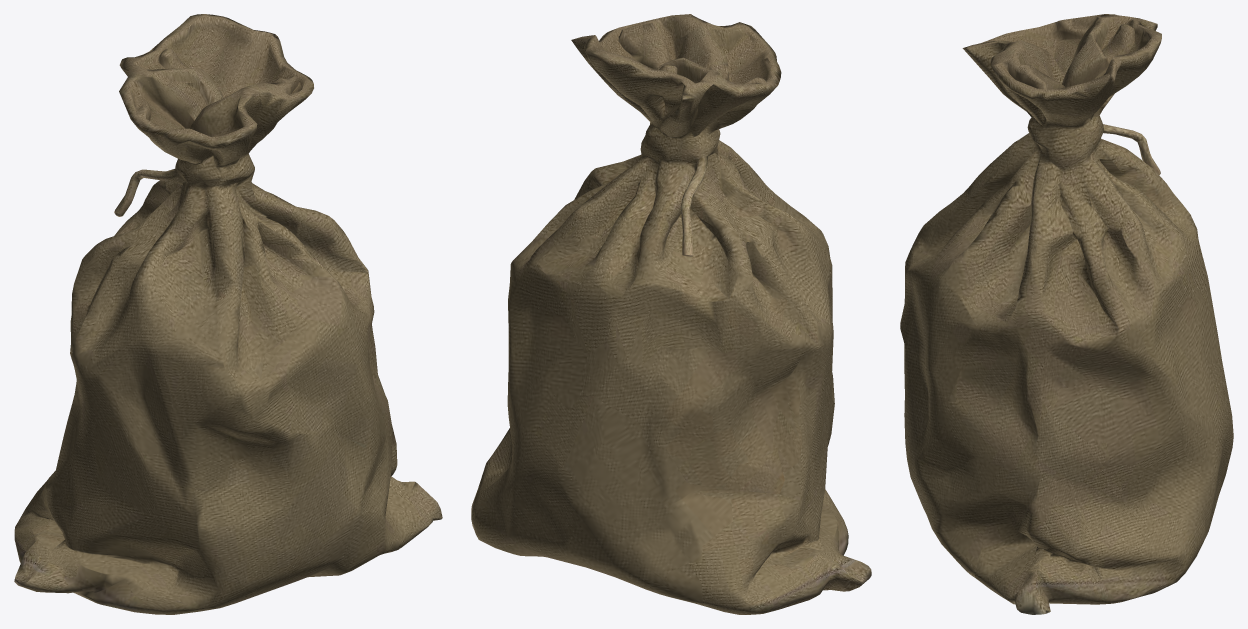
File: bag.glb
The picture shows the model from 3 angles, left to right: view 1: azimuth 30°, elevation 25°; view 2: azimuth 150°, elevation 25°; view 3: azimuth 270°, elevation 25°; orthographic projection. The views are drawn at different scales.
Parts seen in each view (by area): view 1: Mesh_0; view 2: Mesh_0; view 3: Mesh_0.
Part boxes in pixels (x1=…): Mesh_0: x1=14, y1=14, x2=442, y2=614; Mesh_0: x1=471, y1=14, x2=871, y2=614; Mesh_0: x1=900, y1=14, x2=1233, y2=614.
Size of the model in its own units: 1.56 by 1.9 by 1.15.
Materials: 1 (1 with a texture image).
